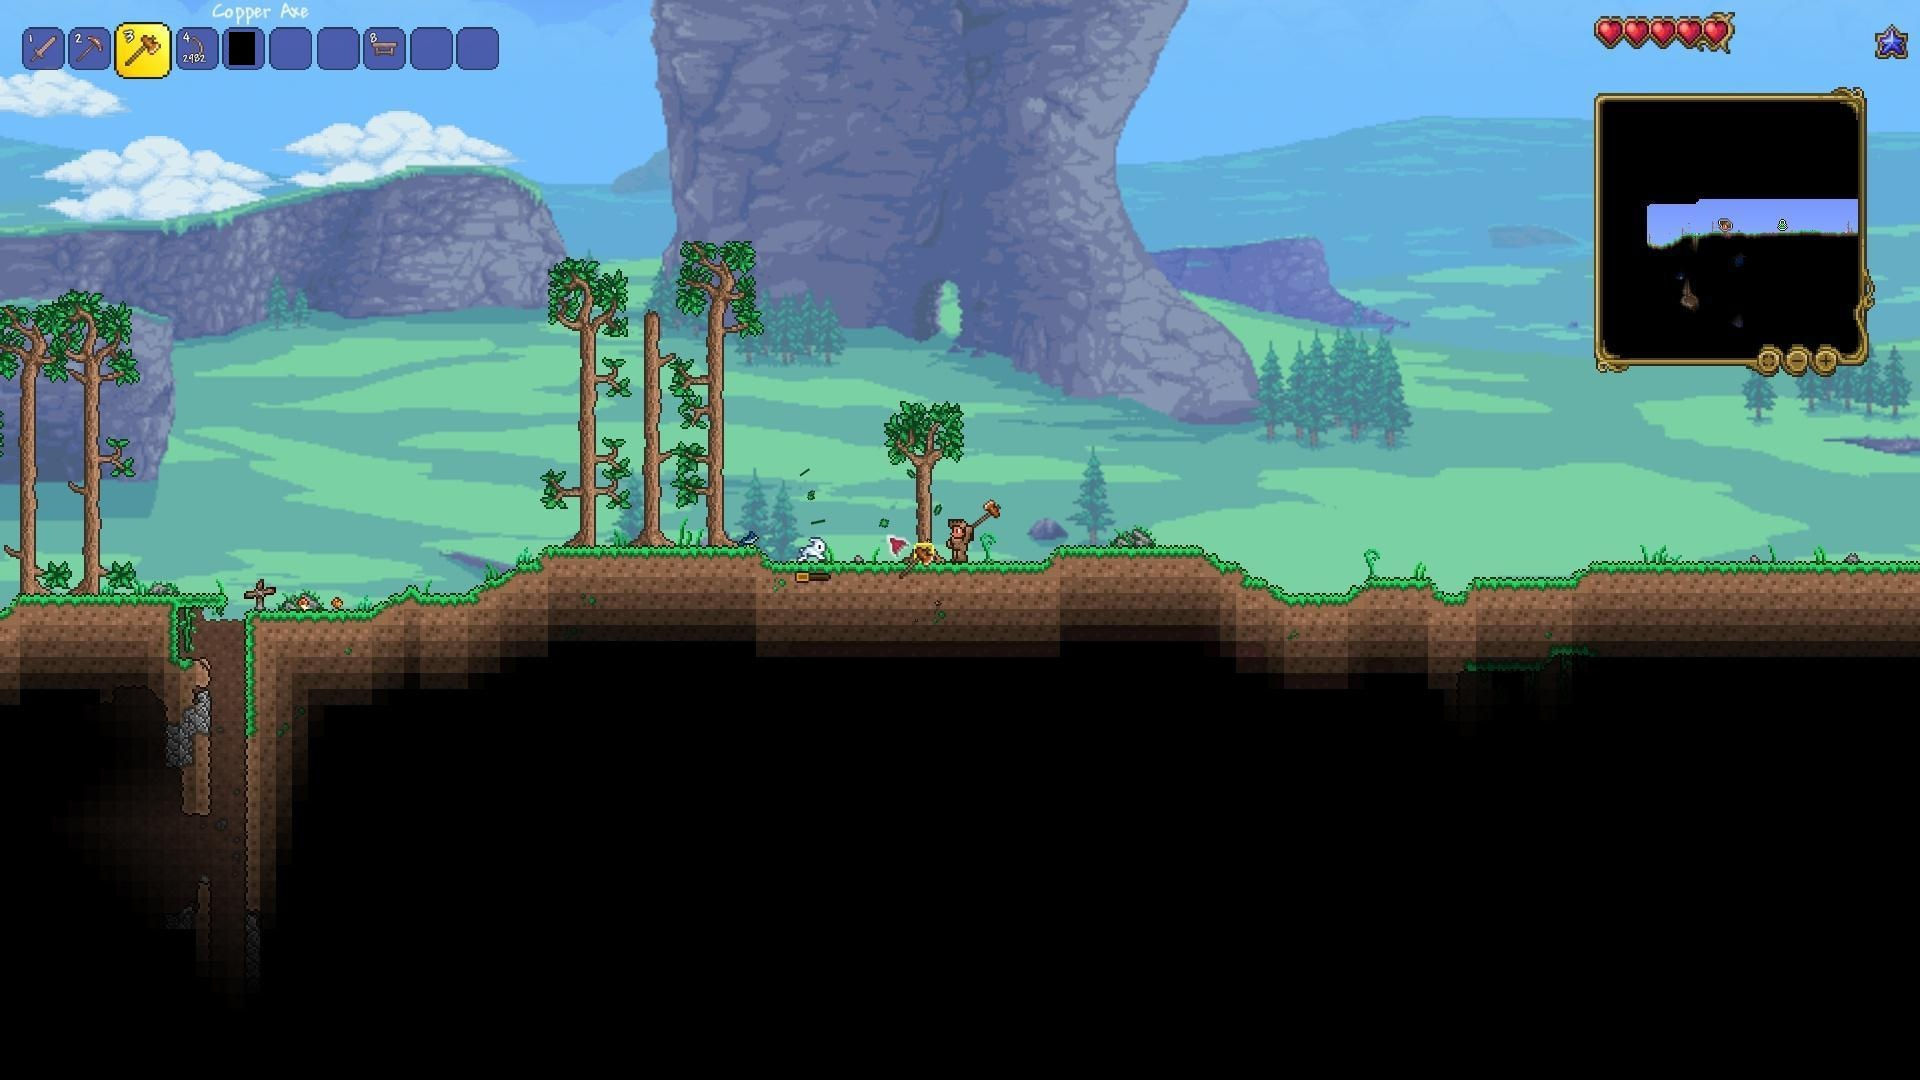workbench: (367, 37, 404, 62)
